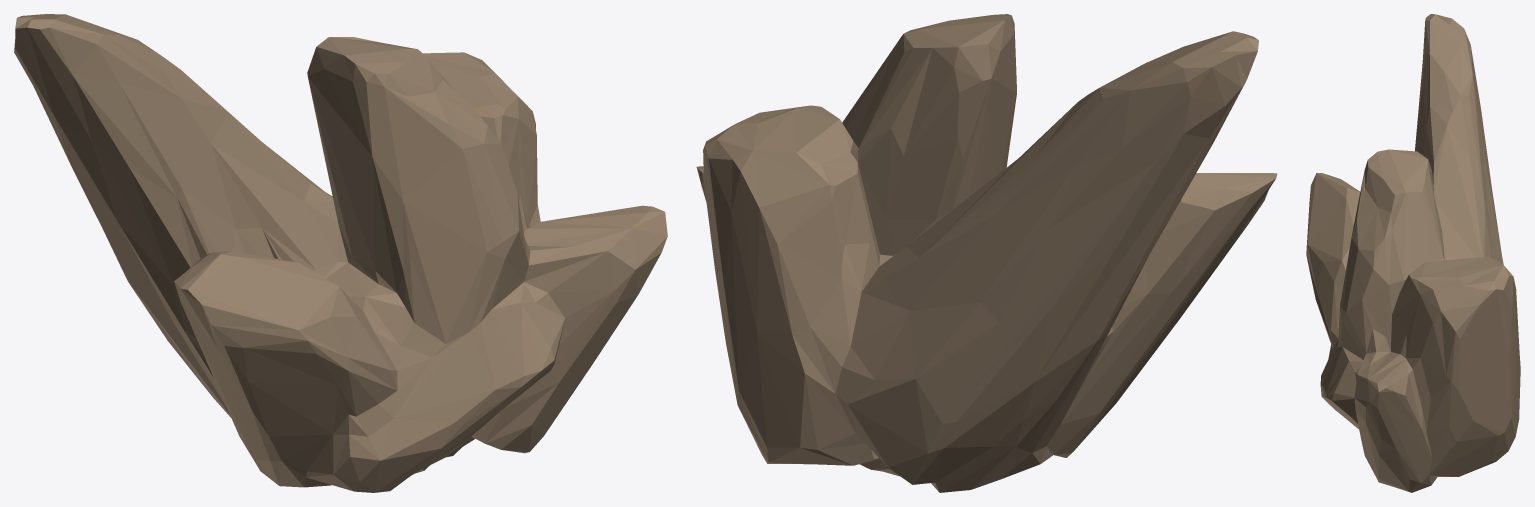
Rendered from SM_Env_Rock_Spikes_02.fbx.
3 views of the same model, side by side, from view 1: azimuth 30°, elevation 25°; view 2: azimuth 150°, elevation 25°; view 3: azimuth 270°, elevation 25° (orthographic). The views are drawn at different scales.
Visible parts, largest first — view 1: SM_Env_Rock_Spikes_02; view 2: SM_Env_Rock_Spikes_02; view 3: SM_Env_Rock_Spikes_02.
Boxes of the visible parts, x1=… form: SM_Env_Rock_Spikes_02: x1=14, y1=14, x2=667, y2=492; SM_Env_Rock_Spikes_02: x1=696, y1=14, x2=1277, y2=492; SM_Env_Rock_Spikes_02: x1=1306, y1=14, x2=1520, y2=492.
Size of the model in its own units: 2304 by 1891 by 1111.
